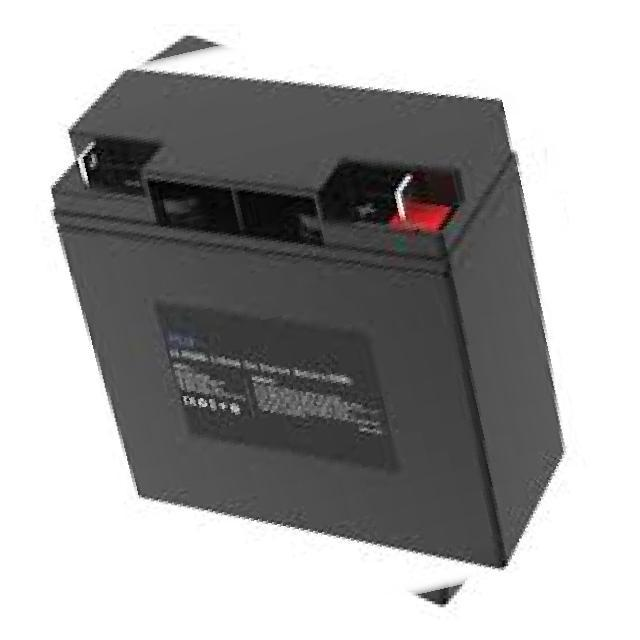Battery: (49, 60, 640, 576)
